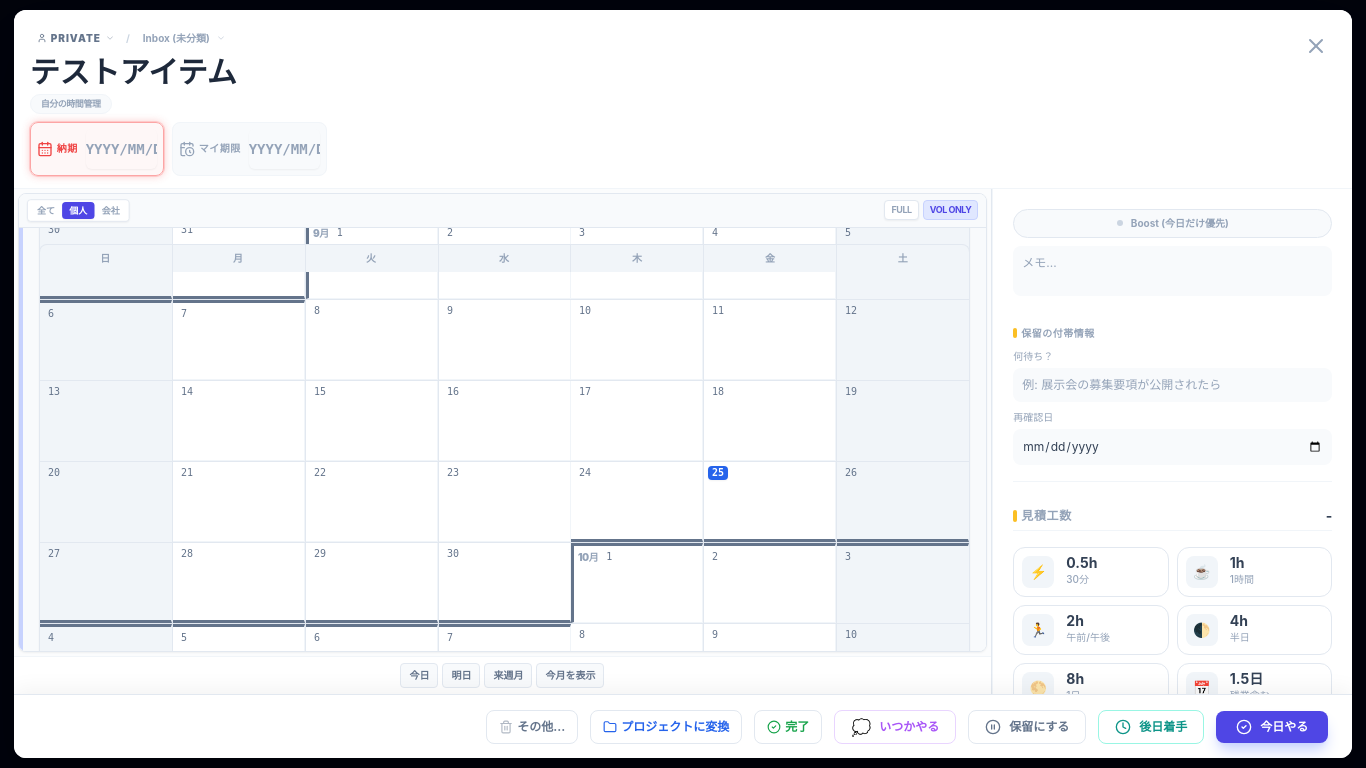
Scenario: DecisionDetailModal — R-082 PC幅で「完了」「プロジェクトに変換」をその他メニューから独立ボタン化 › PC表示時、その他メニュー（ポップオーバー）内には「いつかやる」「アーカイブ」「ゴミ箱」のみが残り、「完了」「プロジェクトに変換」は含まれない
(page scrolled)
Expected: the field with test id "decision-detail-title-input" is shown, [26,54,1276,90]
Click the button "その他..." at (532,726), box [486,710,578,744]
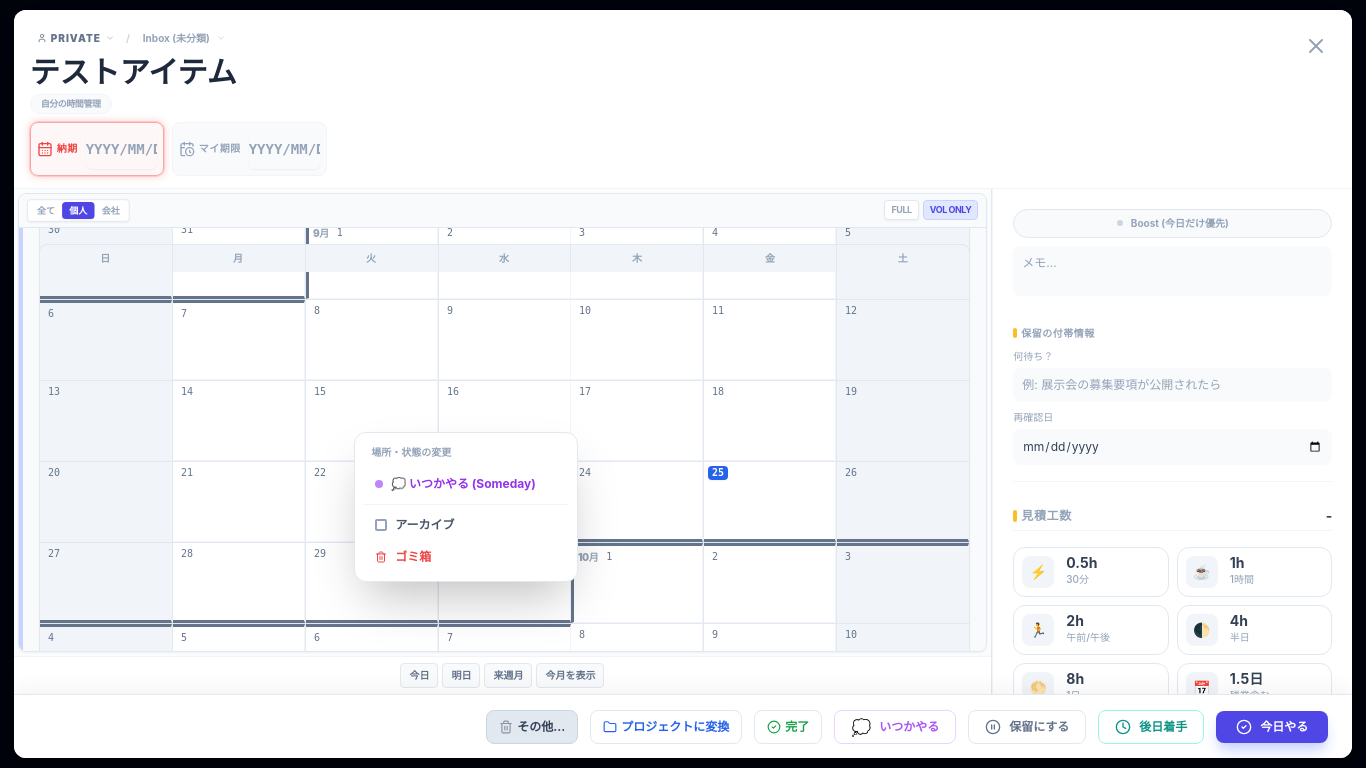
Now the text "場所・状態の変更" is shown, box [371,446,451,458]
Now the button "💭 いつかやる (Someday)" is shown, box [363,468,569,500]
Now the button "アーカイブ" is shown, box [363,508,569,540]
